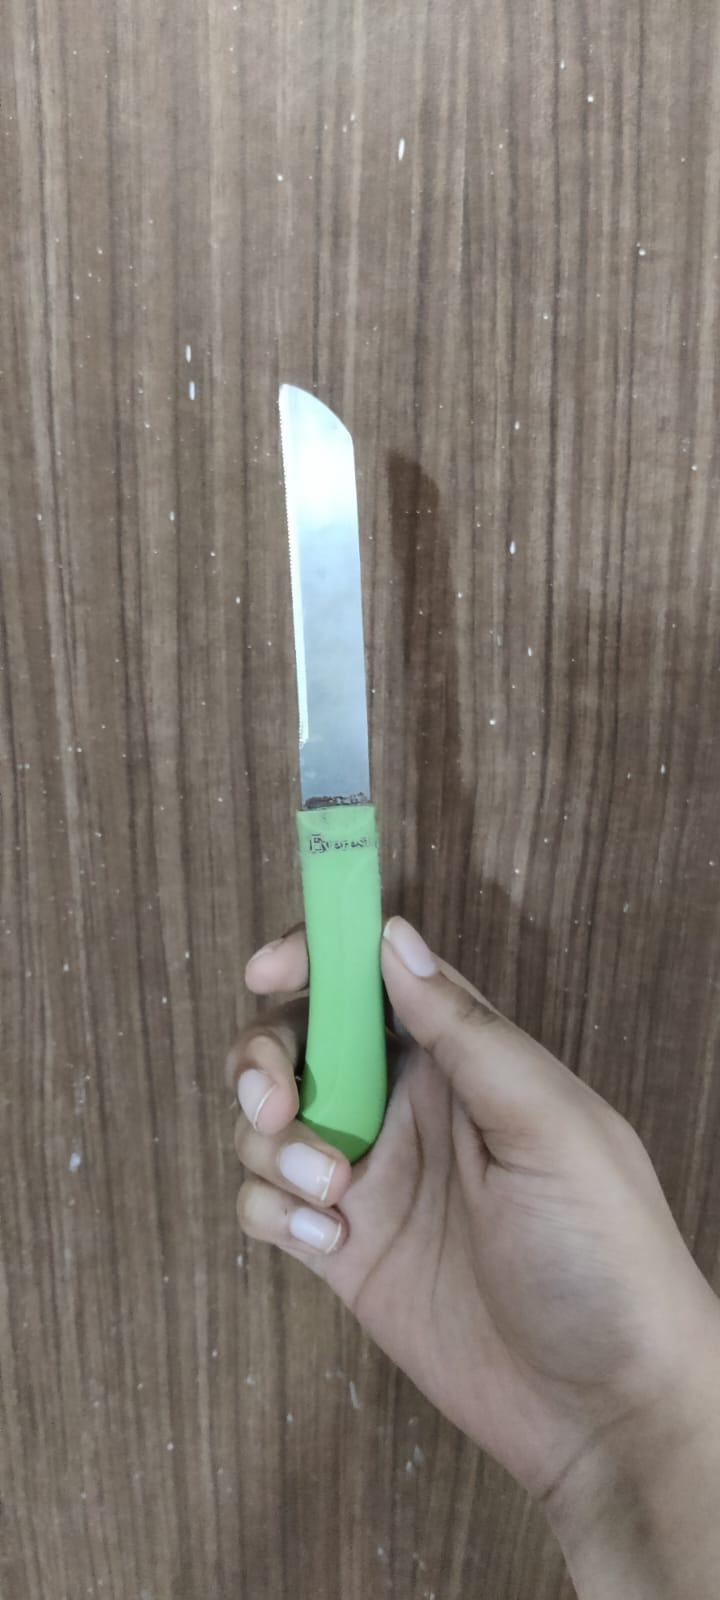knife: (284, 389, 382, 1154)
